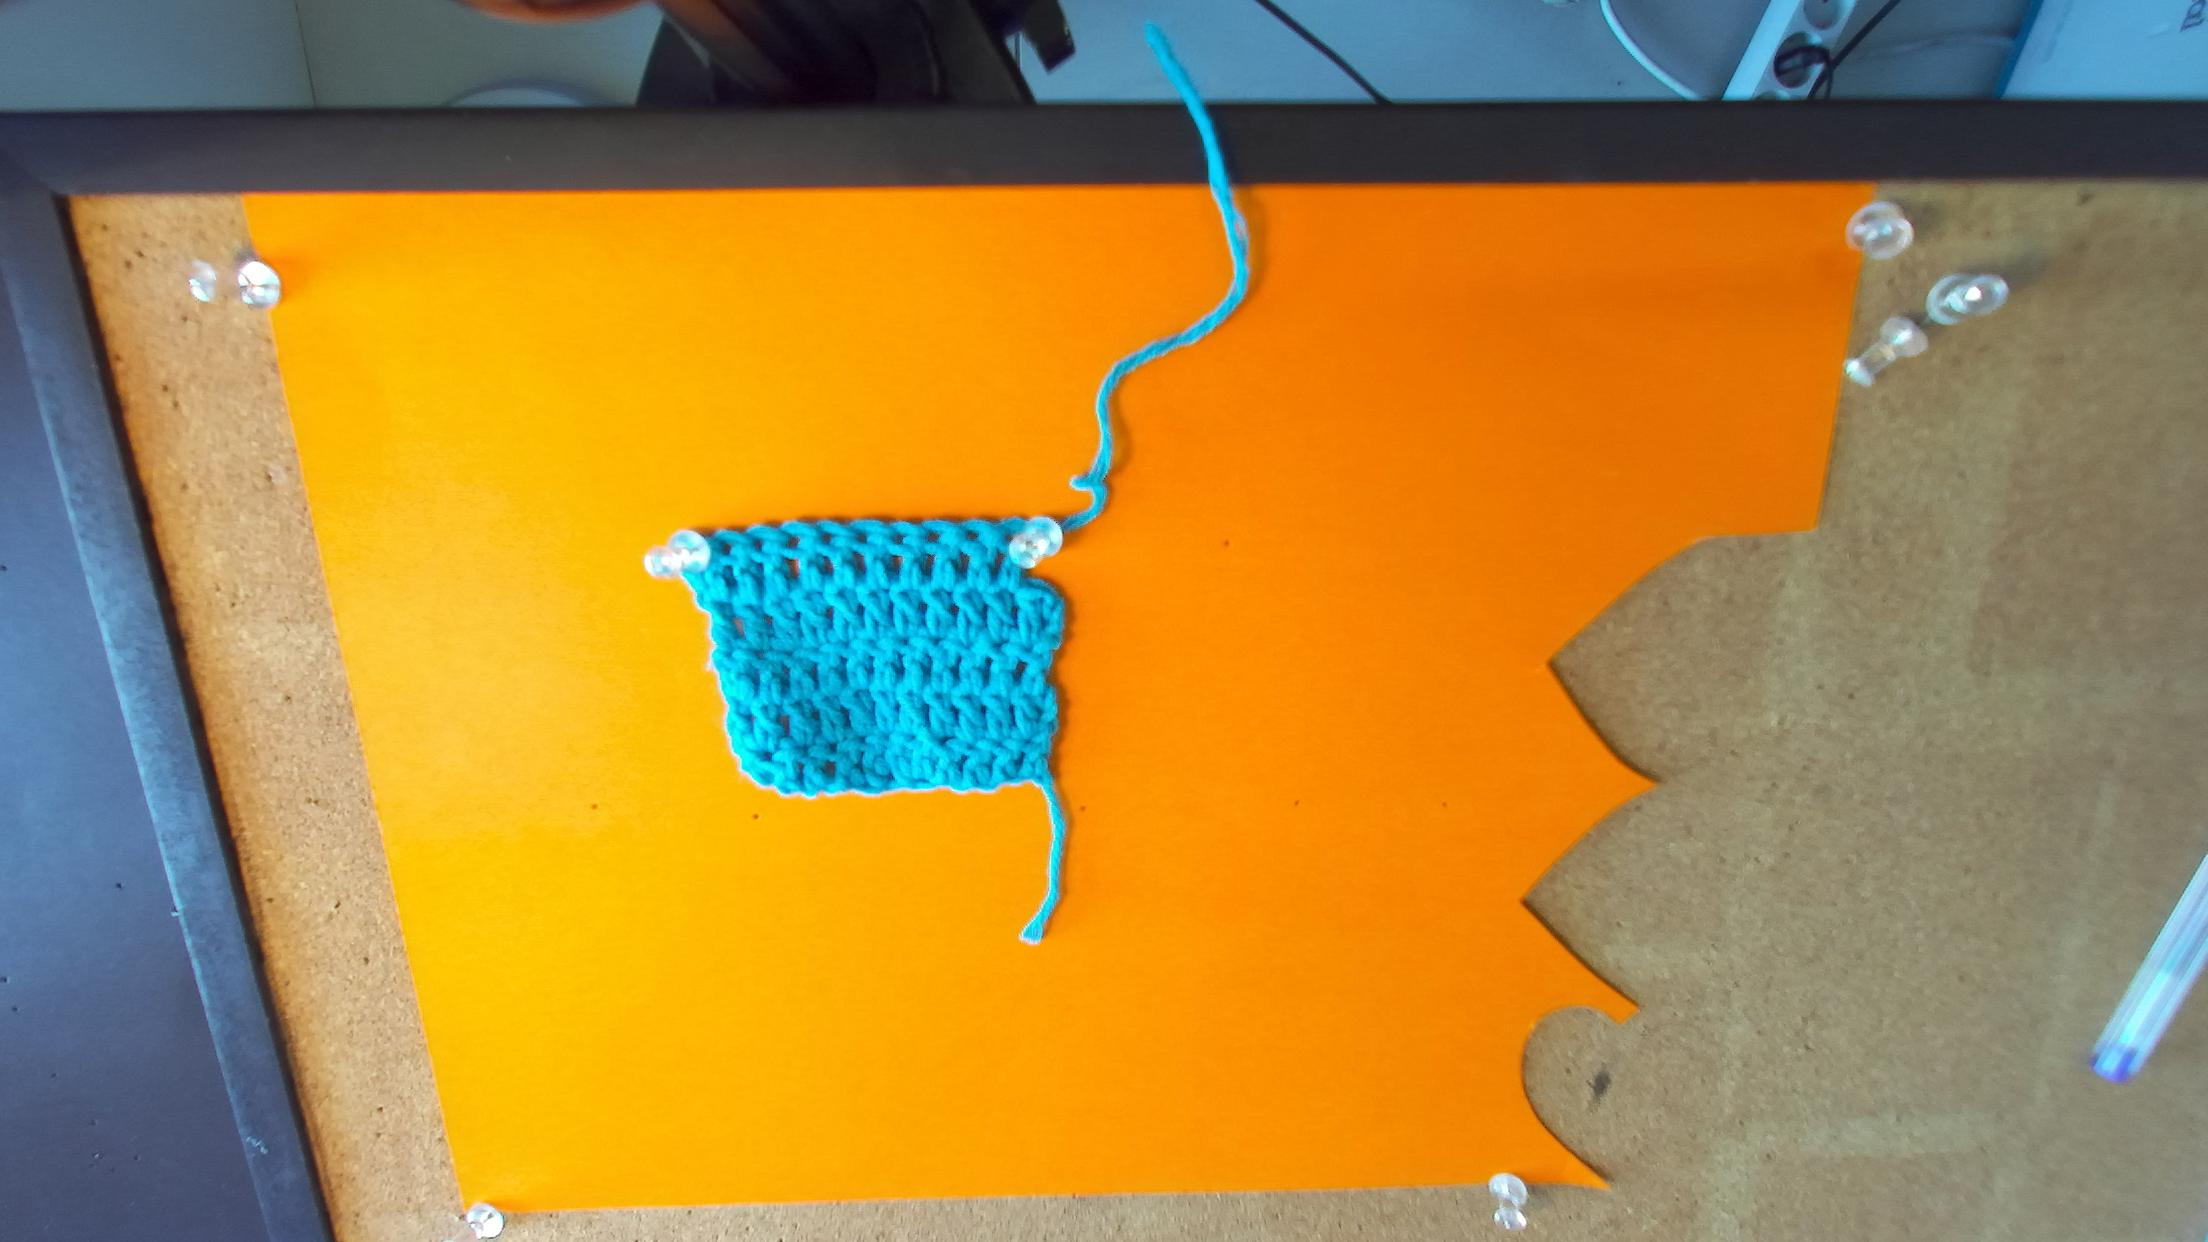hole: (787, 535, 804, 549), (720, 540, 734, 555), (752, 538, 766, 552), (925, 531, 940, 543), (820, 534, 836, 544), (890, 534, 905, 544), (858, 531, 870, 543), (966, 531, 980, 541), (1005, 534, 1015, 541)
swatch: (641, 517, 1074, 805)
